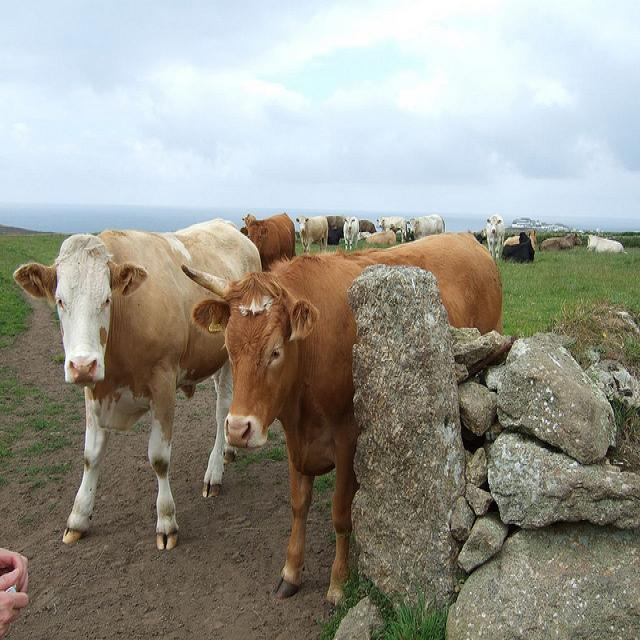cow: (184, 226, 503, 602), (193, 223, 583, 451), (5, 215, 260, 551), (243, 211, 295, 267), (298, 215, 327, 253), (501, 230, 533, 262), (406, 214, 444, 238), (585, 232, 626, 252), (375, 215, 406, 241), (485, 212, 504, 253), (359, 227, 395, 244), (325, 212, 344, 244), (341, 215, 357, 249), (356, 217, 375, 232)
